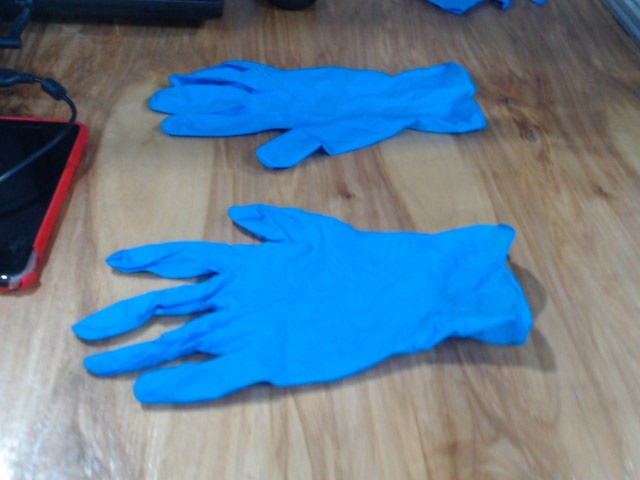medical_glove: (71, 203, 533, 403), (148, 60, 487, 168)
